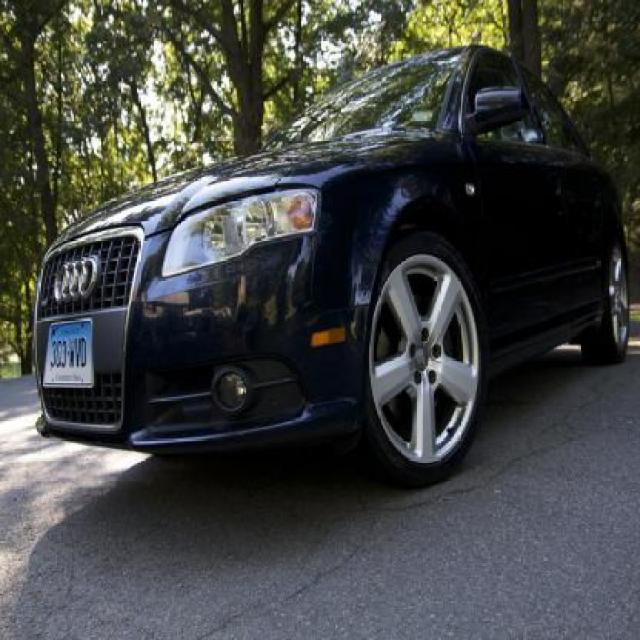License-Plates: (39, 314, 97, 390)
